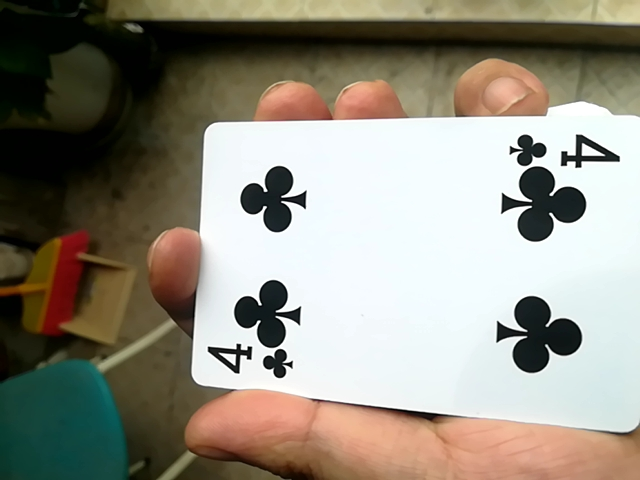mh 4: (169, 110, 636, 433)
